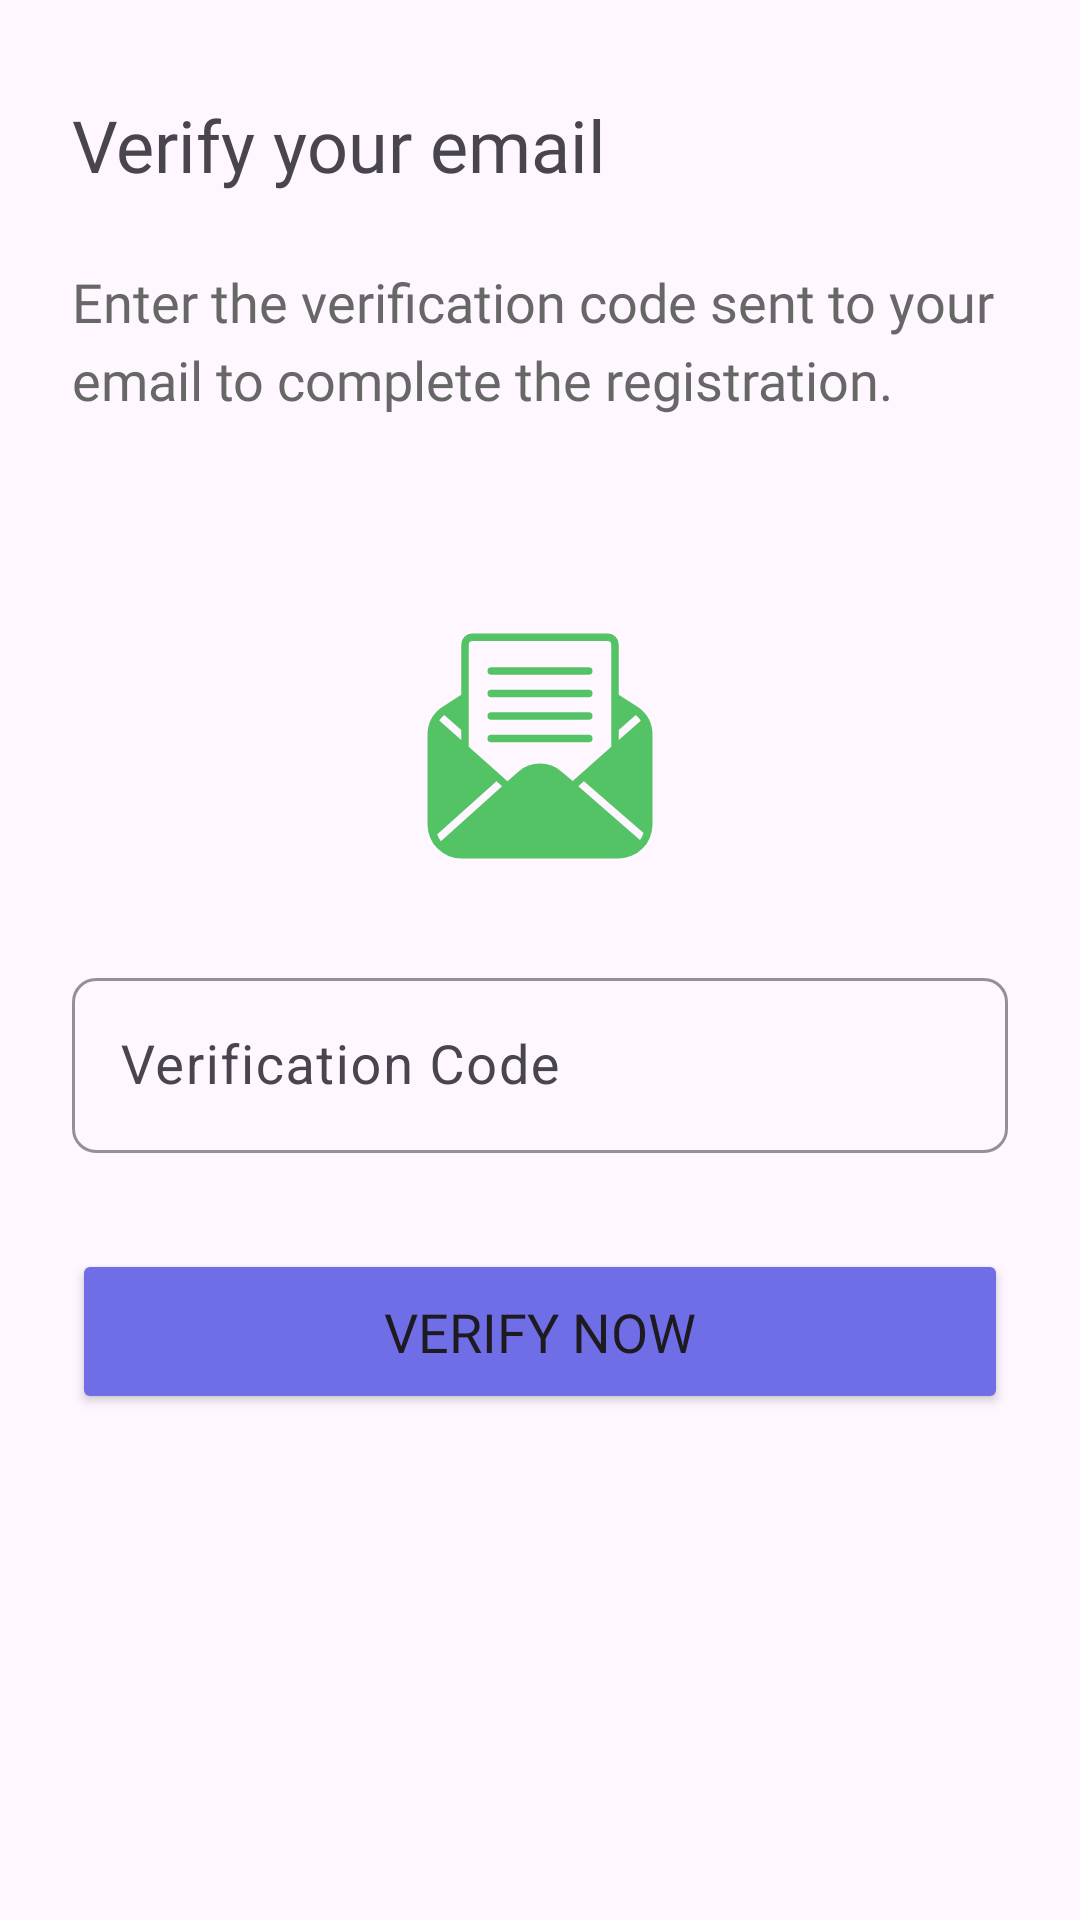

Locate icon controls on the screen. Image size 1080x1920, boxes as region(x1, y1, x2, y2).
verify email: region(427, 633, 653, 859)
